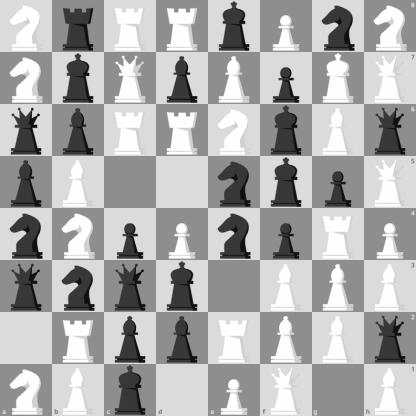B: (52, 364, 104, 416), (364, 260, 416, 312), (364, 364, 416, 416), (53, 157, 104, 208), (209, 53, 260, 104), (261, 261, 312, 312), (261, 313, 312, 364), (313, 105, 364, 156), (313, 261, 364, 312), (313, 313, 364, 364)
K: (313, 53, 364, 104)
N: (0, 364, 52, 416), (364, 0, 416, 52), (1, 1, 52, 52), (1, 53, 52, 104), (53, 209, 104, 260), (209, 105, 260, 156)
P: (209, 364, 260, 416), (364, 209, 416, 260), (157, 209, 208, 260), (261, 1, 312, 52)
Q: (364, 156, 416, 209), (260, 364, 312, 416), (364, 52, 416, 104), (105, 53, 156, 104)
R: (53, 313, 104, 364), (105, 1, 156, 52), (105, 105, 156, 156), (157, 1, 208, 52), (157, 105, 208, 156), (209, 313, 260, 364), (313, 209, 364, 260)
b: (1, 157, 52, 208), (53, 105, 104, 156), (105, 313, 156, 364), (157, 53, 208, 104), (157, 313, 208, 364)
board: (0, 0, 415, 415)
k: (104, 364, 156, 416), (53, 53, 104, 104), (157, 261, 208, 312), (209, 1, 260, 52), (261, 105, 312, 156), (261, 157, 312, 208)
n: (1, 209, 52, 260), (53, 261, 104, 312), (209, 157, 260, 208), (209, 209, 260, 260), (313, 1, 364, 52)
p: (105, 209, 156, 260), (261, 53, 312, 104), (261, 209, 312, 260), (313, 157, 364, 208)
q: (364, 104, 416, 156), (364, 312, 416, 364), (1, 105, 52, 156), (1, 261, 52, 312), (105, 261, 156, 312)
r: (53, 1, 104, 52)
